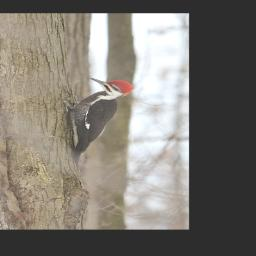Woodpecker: (57, 77, 136, 172)
